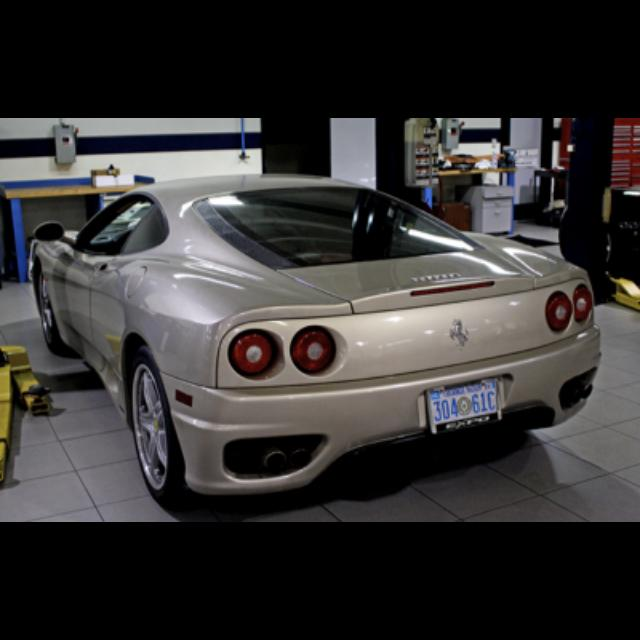carPlate: (427, 379, 503, 435)
